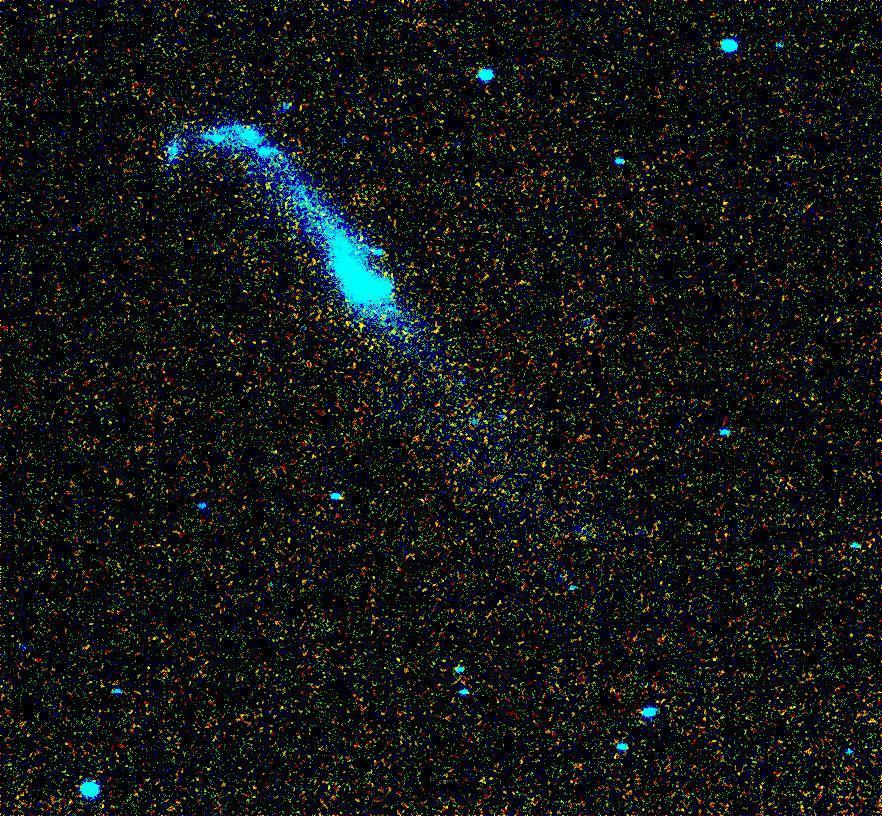star: (700, 644, 730, 674)
